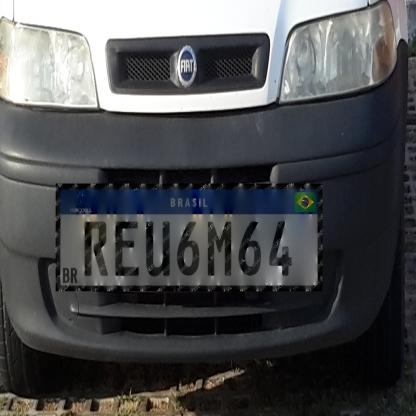PlacaM: (56, 184, 322, 291)
